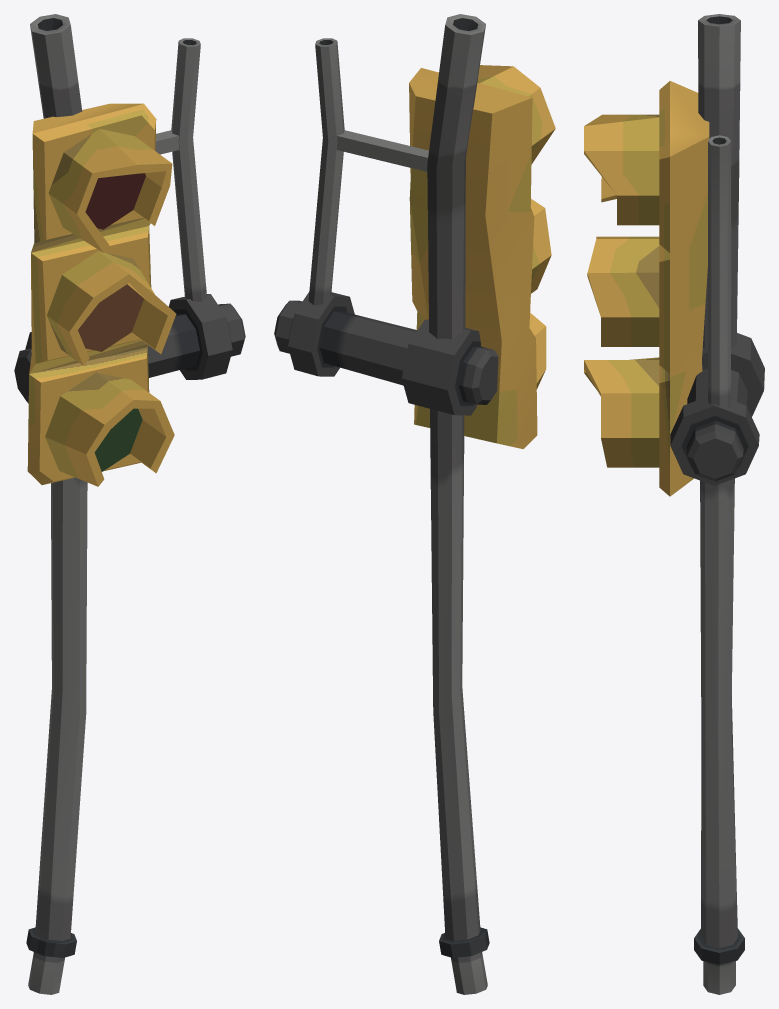
File: SM_Prop_TrafficLights_01.fbx
3 renders of one model, left to right at view 1: azimuth 30°, elevation 25°; view 2: azimuth 150°, elevation 25°; view 3: azimuth 270°, elevation 25°, orthographic.
Visible parts, largest first — view 1: SM_Prop_TrafficLights_01; view 2: SM_Prop_TrafficLights_01; view 3: SM_Prop_TrafficLights_01.
Boxes of the visible parts, x1,y1,x2,y2 form: SM_Prop_TrafficLights_01: (14,14,245,994); SM_Prop_TrafficLights_01: (274,14,555,994); SM_Prop_TrafficLights_01: (584,14,764,994).
Size of the model in its own units: 48.16 by 194 by 32.71.
